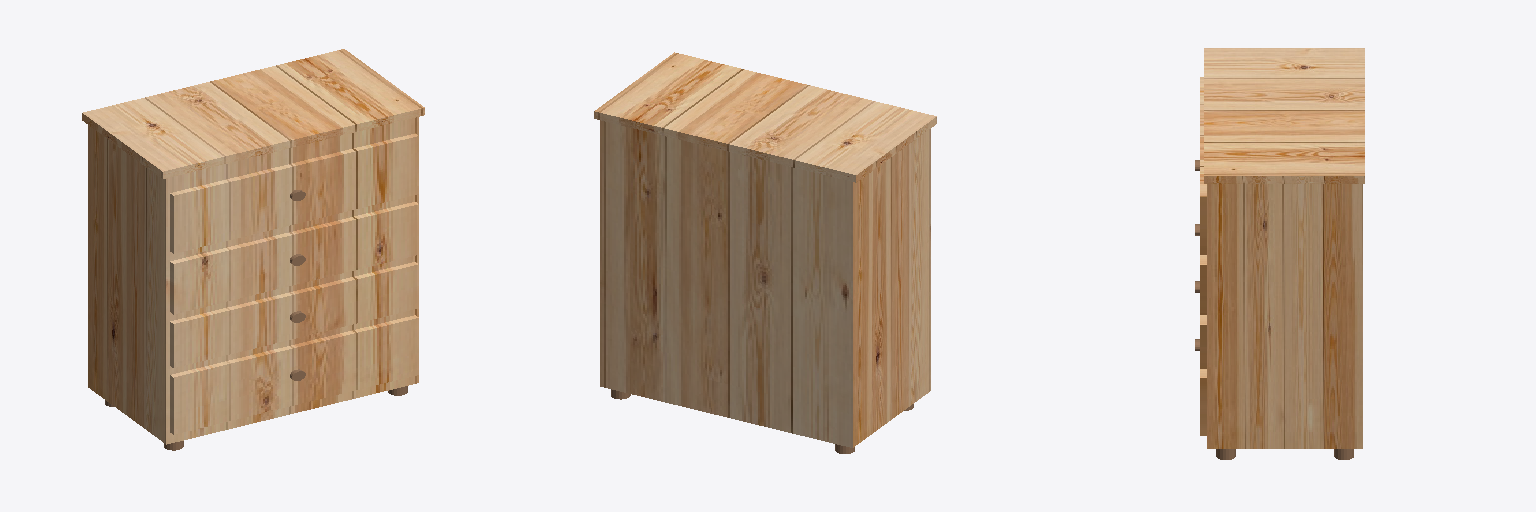
The picture shows the model from 3 angles: view 1: azimuth 30°, elevation 25°; view 2: azimuth 150°, elevation 25°; view 3: azimuth 270°, elevation 25°; orthographic projection.
Visible parts, largest first — view 1: pCube1, pCube2; view 2: pCube1, pCube2; view 3: pCube1, pCube2.
Part boxes in pixels (left/top/right/bottom): pCube1: left=88, top=117, right=418, bottom=444; pCube2: left=82, top=49, right=424, bottom=178; pCube1: left=600, top=120, right=930, bottom=447; pCube2: left=594, top=52, right=936, bottom=182; pCube1: left=1200, top=77, right=1362, bottom=448; pCube2: left=1204, top=48, right=1364, bottom=183.
Size of the model in its own units: 1.92 by 2.02 by 1.08.
Materials: 3 (2 with a texture image).